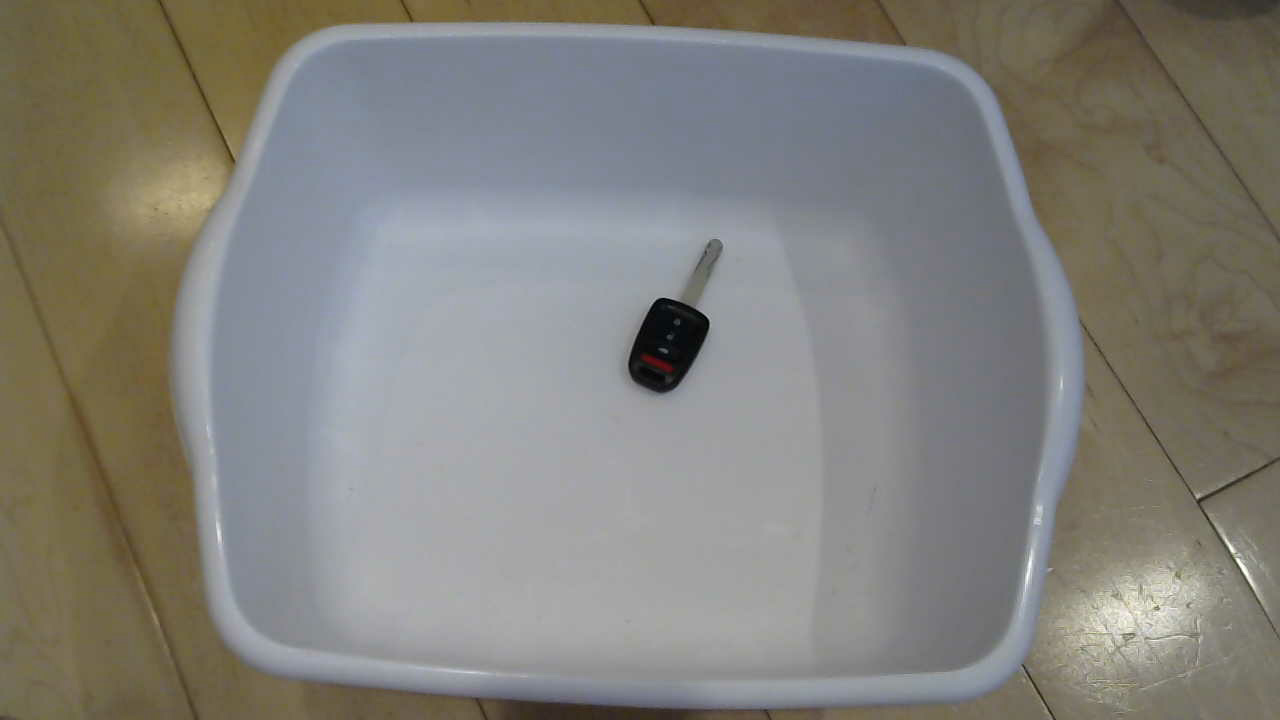key: (601, 230, 755, 404)
